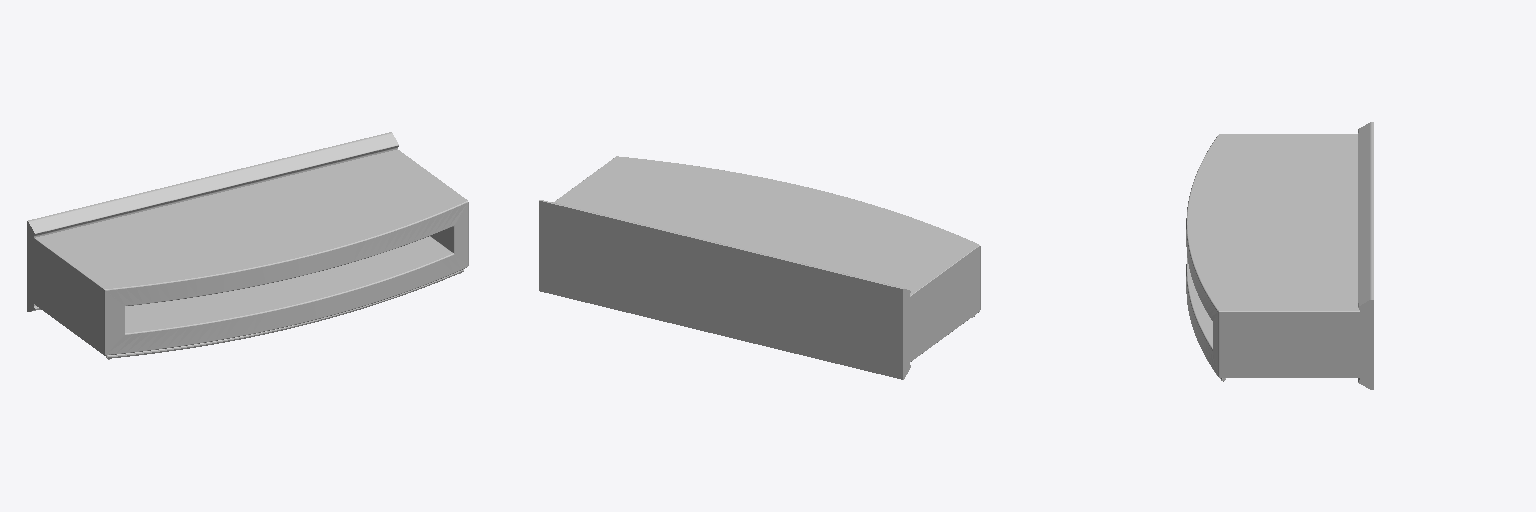
The model's file is CookingUtensilsHolder.obj.
The picture shows the model from 3 angles: view 1: azimuth 30°, elevation 25°; view 2: azimuth 150°, elevation 25°; view 3: azimuth 270°, elevation 25°; orthographic projection.
Visible parts, largest first — view 1: CookingUtensilsHolder_SM_CookingUtensilsHolder; view 2: CookingUtensilsHolder_SM_CookingUtensilsHolder; view 3: CookingUtensilsHolder_SM_CookingUtensilsHolder.
Part boxes in pixels (x1,y1,x2,y2): CookingUtensilsHolder_SM_CookingUtensilsHolder: (27, 132, 468, 359); CookingUtensilsHolder_SM_CookingUtensilsHolder: (539, 156, 980, 379); CookingUtensilsHolder_SM_CookingUtensilsHolder: (1186, 122, 1373, 389).
Size of the model in its own units: 0.3511 by 0.0835 by 0.1564.